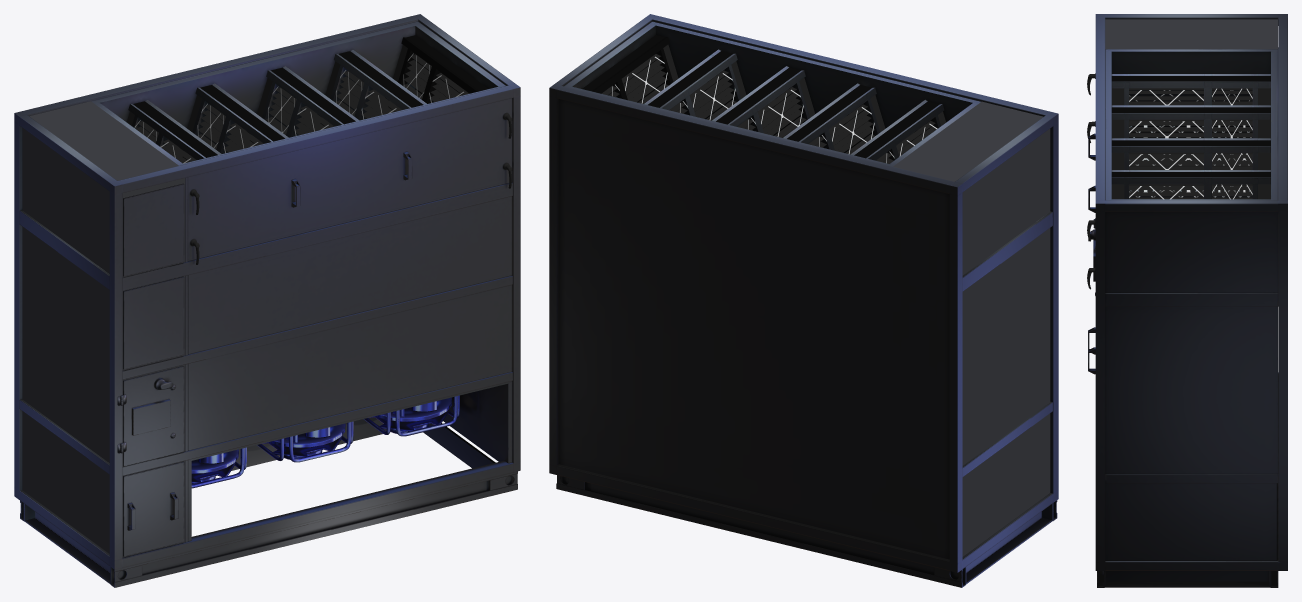
3 views of the same model, side by side, from view 1: azimuth 30°, elevation 25°; view 2: azimuth 150°, elevation 25°; view 3: azimuth 270°, elevation 25° (orthographic). The views are drawn at different scales.
Visible parts, largest first — view 1: A_Unit; view 2: A_Unit; view 3: A_Unit.
Boxes of the visible parts, bbox=[...] form: A_Unit: bbox=[14, 14, 520, 587]; A_Unit: bbox=[549, 14, 1058, 587]; A_Unit: bbox=[1087, 14, 1287, 587].
Size of the model in its own units: 7.22 by 6.84 by 3.23.
Materials: 5 (4 with a texture image).
